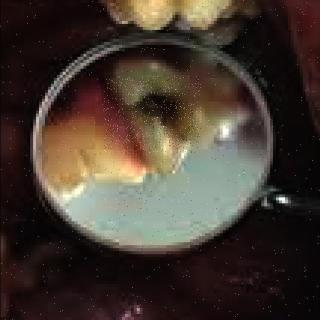cavities: (119, 74, 190, 156)
